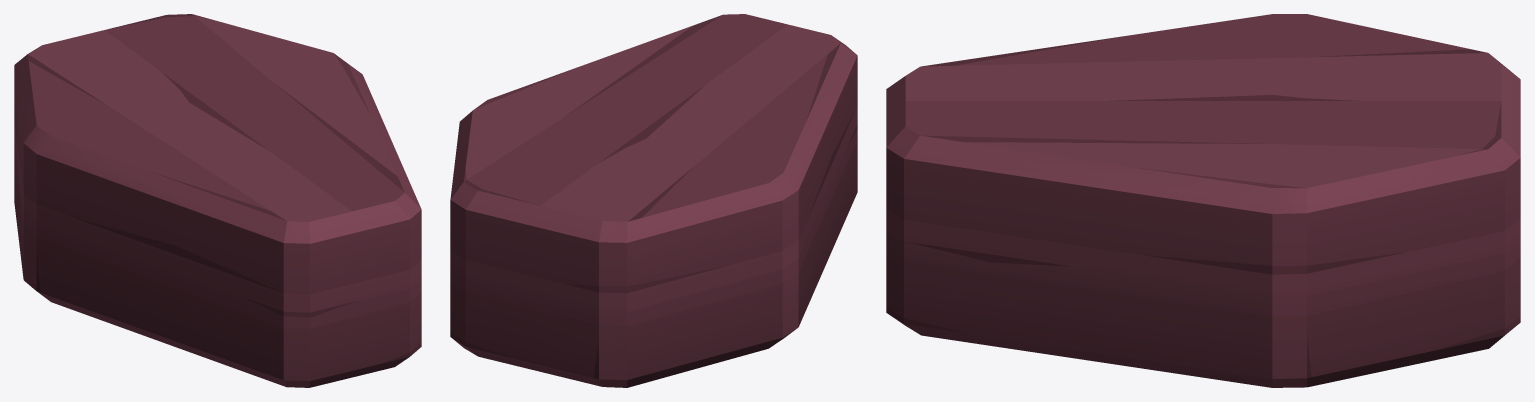
File: coffin.glb
3 renders of one model, left to right at view 1: azimuth 30°, elevation 25°; view 2: azimuth 150°, elevation 25°; view 3: azimuth 270°, elevation 25°, orthographic. The views are drawn at different scales.
Visible parts, largest first — view 1: coffin; view 2: coffin; view 3: coffin.
Part boxes in pixels (bbox=[...]): coffin: bbox=[14, 14, 421, 387]; coffin: bbox=[450, 14, 857, 387]; coffin: bbox=[886, 14, 1520, 387].
Size of the model in its own units: 2.78 by 1.35 by 3.89.
Materials: 1 (1 with a texture image).
